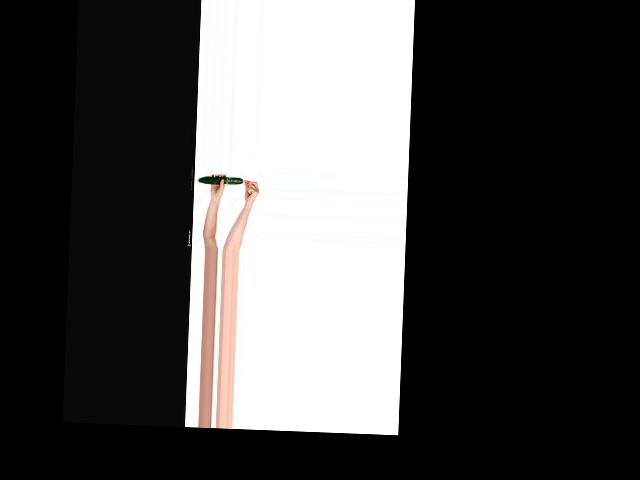cucumber: (197, 175, 242, 184)
